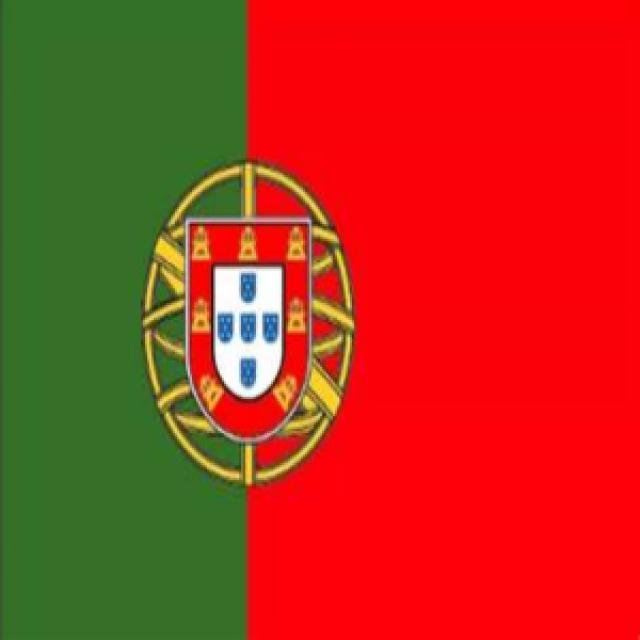portugal: (11, 7, 640, 629)
